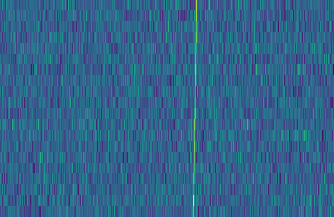signal: (188, 0, 201, 217)
